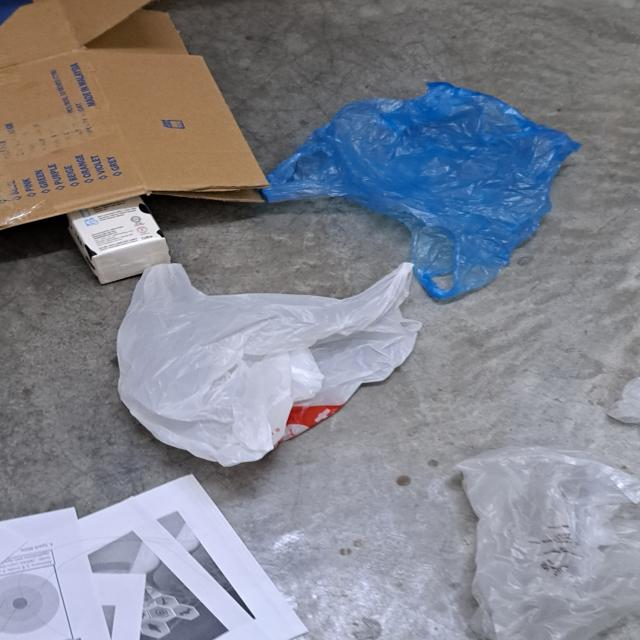cardboard: (0, 0, 272, 235)
drink carton: (61, 198, 176, 286)
paper: (0, 473, 307, 640)
plastic bag: (261, 81, 587, 300), (112, 263, 424, 468), (454, 447, 640, 640)
